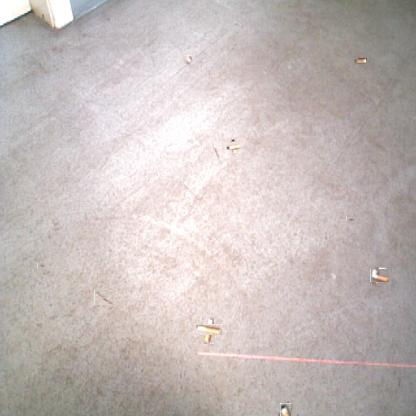dirty: (199, 320, 218, 340), (372, 267, 388, 284), (280, 403, 291, 416), (228, 141, 240, 152), (184, 55, 192, 64), (355, 57, 367, 63)
mark: (95, 289, 113, 306), (210, 142, 222, 166), (38, 263, 45, 270), (347, 215, 354, 222)
